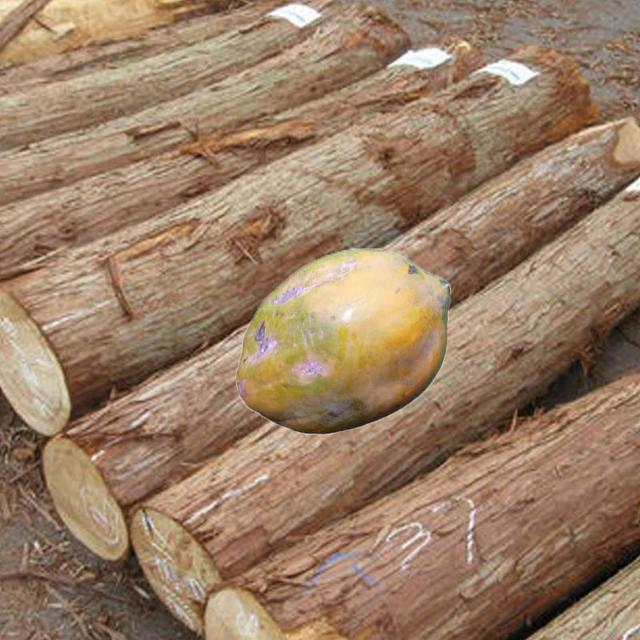Pepaya rippen: (230, 245, 450, 431)
